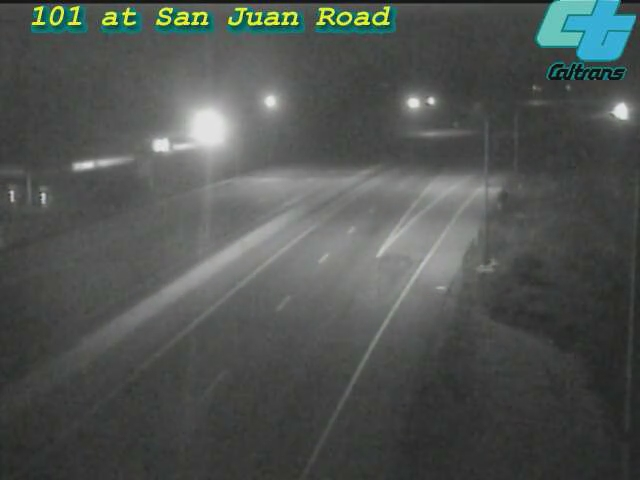vehicle: (594, 87, 640, 137)
